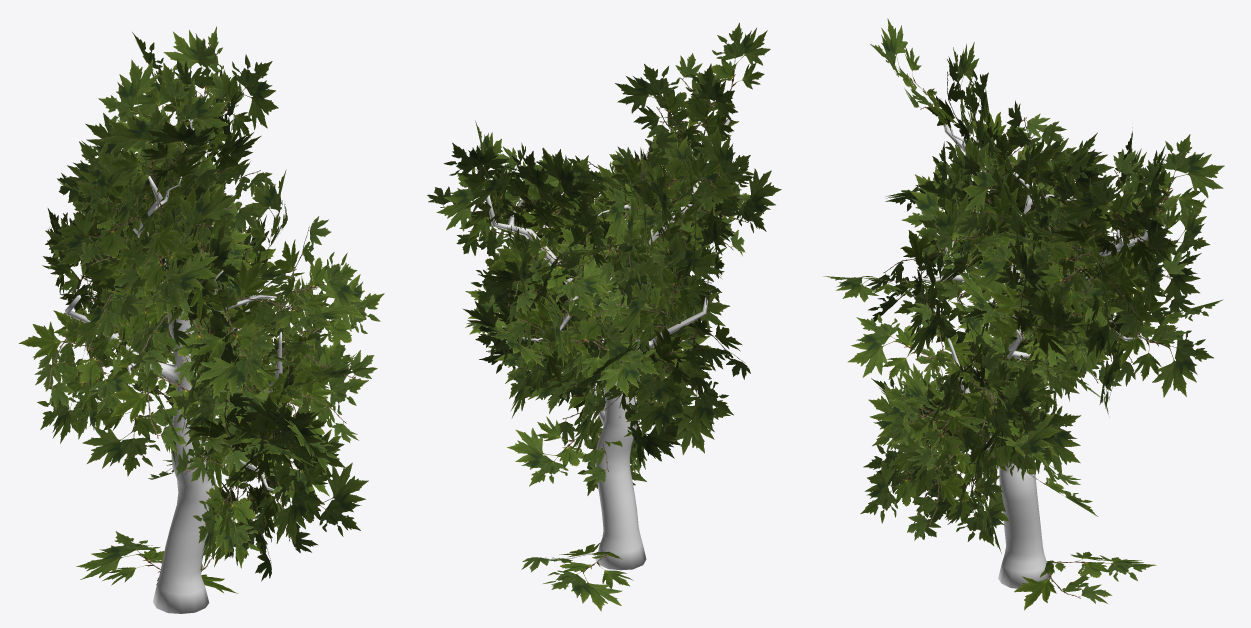
Rendered from Tree_1_FULL.fbx.
3 views of the same model, side by side, from view 1: azimuth 30°, elevation 25°; view 2: azimuth 150°, elevation 25°; view 3: azimuth 270°, elevation 25° (orthographic). The views are drawn at different scales.
Parts seen in each view (by area): view 1: Stronk, Stronk|Blad|Dupli|82, Stronk|Blad|Dupli|61, Stronk|Blad|Dupli|59, Stronk|Blad|Dupli|17, Stronk|Blad|Dupli|83, Stronk|Blad|Dupli|128, Stronk|Blad|Dupli|74, Stronk|Blad|Dupli|144, Stronk|Blad|Dupli|138, Stronk|Blad|Dupli|70, Stronk|Blad|Dupli|113 (+62 smaller); view 2: Stronk, Stronk|Blad|Dupli|54, Stronk|Blad|Dupli|11, Stronk|Blad|Dupli|46, Stronk|Blad|Dupli|139, Stronk|Blad|Dupli|109, Stronk|Blad|Dupli|80, Stronk|Blad|Dupli|34, Stronk|Blad|Dupli|41, Stronk|Blad|Dupli|112, Blad, Stronk|Blad|Dupli|52 (+52 smaller); view 3: Stronk, Stronk|Blad|Dupli|60, Stronk|Blad|Dupli|134, Stronk|Blad|Dupli|144, Stronk|Blad|Dupli|92, Blad, Stronk|Blad|Dupli|128, Stronk|Blad|Dupli|28, Stronk|Blad|Dupli|116, Stronk|Blad|Dupli|15, Stronk|Blad|Dupli|135, Stronk|Blad|Dupli|132 (+69 smaller).
Boxes of the visible parts, x1=… form: Stronk: x1=65, y1=119, x2=291, y2=613; Stronk|Blad|Dupli|82: x1=193, y1=261, x2=297, y2=398; Stronk|Blad|Dupli|61: x1=57, y1=198, x2=185, y2=295; Stronk|Blad|Dupli|59: x1=282, y1=262, x2=384, y2=402; Stronk|Blad|Dupli|17: x1=19, y1=316, x2=137, y2=416; Stronk|Blad|Dupli|83: x1=274, y1=216, x2=364, y2=331; Stronk|Blad|Dupli|128: x1=160, y1=39, x2=278, y2=138; Stronk|Blad|Dupli|74: x1=186, y1=392, x2=327, y2=471; Stronk|Blad|Dupli|144: x1=246, y1=458, x2=368, y2=553; Stronk|Blad|Dupli|138: x1=120, y1=229, x2=218, y2=323; Stronk|Blad|Dupli|70: x1=235, y1=423, x2=324, y2=544; Stronk|Blad|Dupli|113: x1=82, y1=379, x2=176, y2=476; Stronk: x1=486, y1=117, x2=731, y2=570; Stronk|Blad|Dupli|54: x1=615, y1=63, x2=738, y2=149; Stronk|Blad|Dupli|11: x1=507, y1=416, x2=632, y2=486; Stronk|Blad|Dupli|46: x1=489, y1=231, x2=614, y2=316; Stronk|Blad|Dupli|139: x1=681, y1=126, x2=765, y2=237; Stronk|Blad|Dupli|109: x1=672, y1=22, x2=770, y2=128; Stronk|Blad|Dupli|80: x1=654, y1=326, x2=733, y2=440; Stronk|Blad|Dupli|34: x1=527, y1=283, x2=640, y2=381; Stronk|Blad|Dupli|41: x1=624, y1=336, x2=709, y2=436; Stronk|Blad|Dupli|112: x1=615, y1=234, x2=724, y2=340; Blad: x1=521, y1=543, x2=633, y2=611; Stronk|Blad|Dupli|52: x1=646, y1=63, x2=737, y2=158; Stronk: x1=912, y1=98, x2=1151, y2=588; Stronk|Blad|Dupli|60: x1=847, y1=302, x2=975, y2=382; Stronk|Blad|Dupli|134: x1=1099, y1=134, x2=1224, y2=231; Stronk|Blad|Dupli|144: x1=860, y1=450, x2=973, y2=540; Stronk|Blad|Dupli|92: x1=1111, y1=293, x2=1213, y2=397; Blad: x1=1014, y1=551, x2=1156, y2=610; Stronk|Blad|Dupli|128: x1=1057, y1=160, x2=1173, y2=236; Stronk|Blad|Dupli|28: x1=1004, y1=232, x2=1071, y2=356; Stronk|Blad|Dupli|116: x1=969, y1=406, x2=1060, y2=501; Stronk|Blad|Dupli|15: x1=868, y1=384, x2=975, y2=467; Stronk|Blad|Dupli|135: x1=1030, y1=259, x2=1152, y2=343; Stronk|Blad|Dupli|132: x1=1052, y1=191, x2=1176, y2=266.
Bounding box in the file's own units: 500 × 828 × 587.
Materials: 2 (1 with a texture image).
